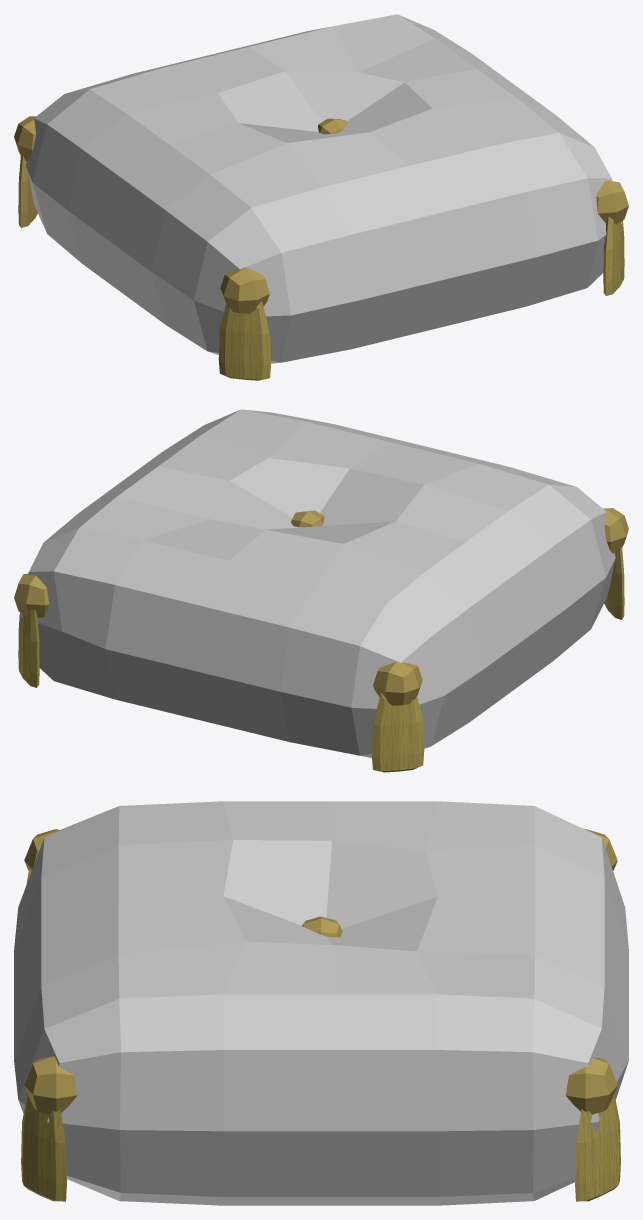
File: cushion.fbx
The picture shows the model from 3 angles, top to bottom: view 1: azimuth 30°, elevation 25°; view 2: azimuth 150°, elevation 25°; view 3: azimuth 270°, elevation 25°; orthographic projection. The views are drawn at different scales.
Parts seen in each view (by area): view 1: Cube, Cube.003, Cube.002; view 2: Cube, Cube.003, Cube.002; view 3: Cube, Cube.003, Cube.002, Cube.001.
Boxes of the visible parts, <box> form: Cube: <box>26,14,621,363</box>; Cube.003: <box>18,155,624,380</box>; Cube.002: <box>14,116,628,313</box>; Cube: <box>19,409,615,757</box>; Cube.003: <box>18,547,624,772</box>; Cube.002: <box>14,508,628,705</box>; Cube: <box>14,801,628,1205</box>; Cube.003: <box>21,870,620,1201</box>; Cube.002: <box>24,829,617,1114</box>; Cube.001: <box>302,916,342,937</box>.
Size of the model in its own units: 196 by 79.49 by 195.
